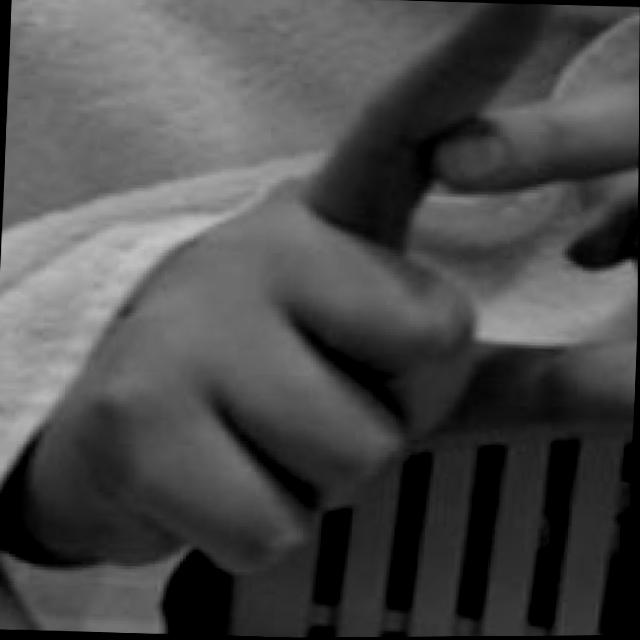J: (0, 0, 640, 593)
